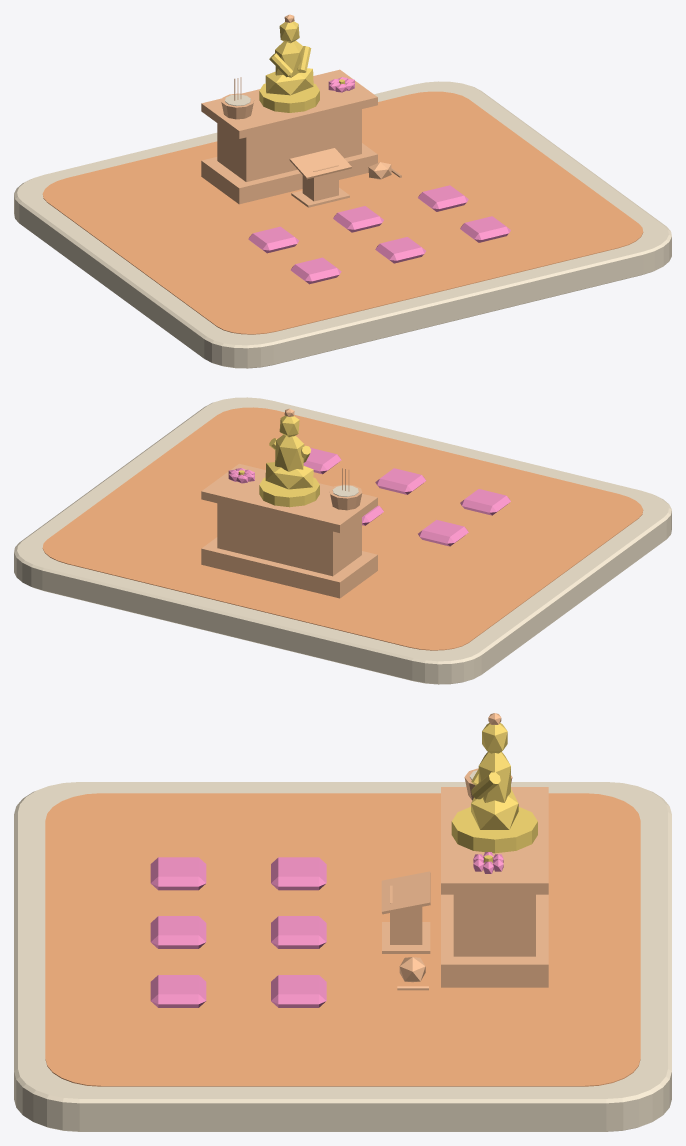
Rendered from room.fbx.
The picture shows the model from 3 angles, top to bottom: view 1: azimuth 30°, elevation 25°; view 2: azimuth 150°, elevation 25°; view 3: azimuth 270°, elevation 25°; orthographic projection. The views are drawn at different scales.
Visible parts, largest first — view 1: COM-02 Floor Surface, COM-01 Rounded Base Direct, Altar, Top, Base, Reading top, Lotus base, Folded legs, Body, Meditation cushion, Meditation cushion.005, Meditation cushion.001 (+4 smaller); view 2: COM-02 Floor Surface, COM-01 Rounded Base Direct, Altar, Top, Base, Lotus base, Folded legs, Robe torso, Meditation cushion.004, Meditation cushion, Meditation cushion.003, Meditation cushion.005 (+1 smaller); view 3: COM-02 Floor Surface, COM-01 Rounded Base Direct, Top, Altar, Base, Lotus base, Meditation cushion.003, Meditation cushion, Meditation cushion.004, Meditation cushion.005, Meditation cushion.001, Meditation cushion.002 (+6 smaller).
Boxes of the visible parts, left/top/right/bottom form: COM-02 Floor Surface: left=42, top=91, right=643, bottom=334; COM-01 Rounded Base Direct: left=14, top=81, right=671, bottom=368; Altar: left=217, top=109, right=361, bottom=181; Top: left=201, top=69, right=377, bottom=138; Base: left=201, top=143, right=377, bottom=204; Reading top: left=289, top=148, right=351, bottom=179; Lotus base: left=259, top=83, right=319, bottom=112; Folded legs: left=265, top=68, right=313, bottom=95; Body: left=302, top=165, right=338, bottom=201; Meditation cushion: left=248, top=226, right=299, bottom=253; Meditation cushion.005: left=460, top=216, right=510, bottom=242; Meditation cushion.001: left=333, top=206, right=383, bottom=232; COM-02 Floor Surface: left=42, top=407, right=643, bottom=650; COM-01 Rounded Base Direct: left=14, top=397, right=671, bottom=684; Altar: left=217, top=503, right=361, bottom=576; Top: left=201, top=463, right=377, bottom=532; Base: left=201, top=537, right=377, bottom=598; Lotus base: left=259, top=477, right=319, bottom=507; Folded legs: left=265, top=462, right=313, bottom=489; Robe torso: left=275, top=435, right=304, bottom=471; Meditation cushion.004: left=375, top=468, right=426, bottom=494; Meditation cushion: left=418, top=519, right=468, bottom=546; Meditation cushion.003: left=460, top=489, right=510, bottom=515; Meditation cushion.005: left=303, top=447, right=341, bottom=474; COM-02 Floor Surface: left=45, top=793, right=640, bottom=1086; COM-01 Rounded Base Direct: left=14, top=782, right=671, bottom=1131; Top: left=441, top=787, right=548, bottom=894; Altar: left=453, top=894, right=535, bottom=956; Base: left=441, top=894, right=548, bottom=987; Lotus base: left=451, top=807, right=537, bottom=853; Meditation cushion.003: left=150, top=857, right=206, bottom=890; Meditation cushion: left=271, top=857, right=326, bottom=890; Meditation cushion.004: left=150, top=916, right=206, bottom=948; Meditation cushion.005: left=150, top=975, right=206, bottom=1007; Meditation cushion.001: left=271, top=916, right=326, bottom=948; Meditation cushion.002: left=271, top=975, right=326, bottom=1007.
Size of the model in its own units: 600 by 227 by 520.
